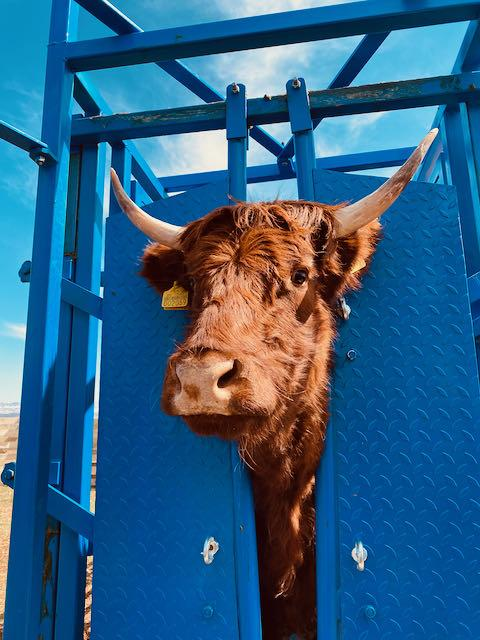muzzles: (150, 357, 275, 429)
